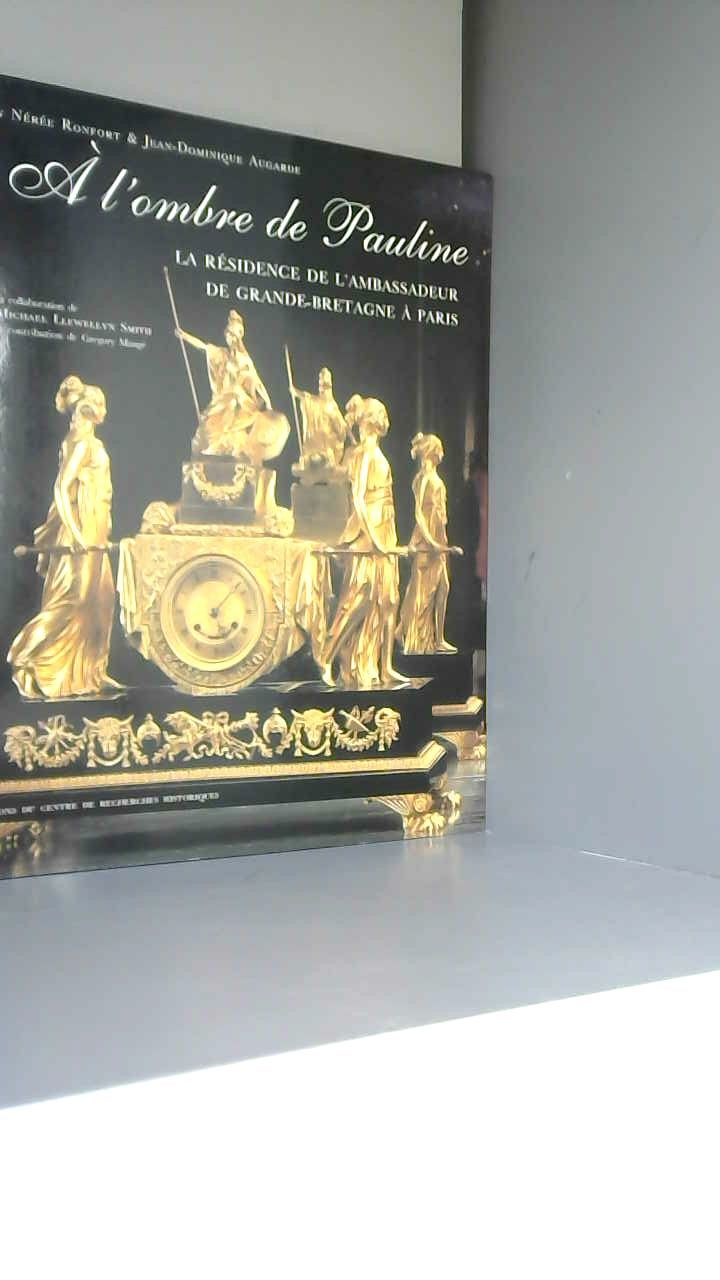book: (0, 65, 528, 891)
